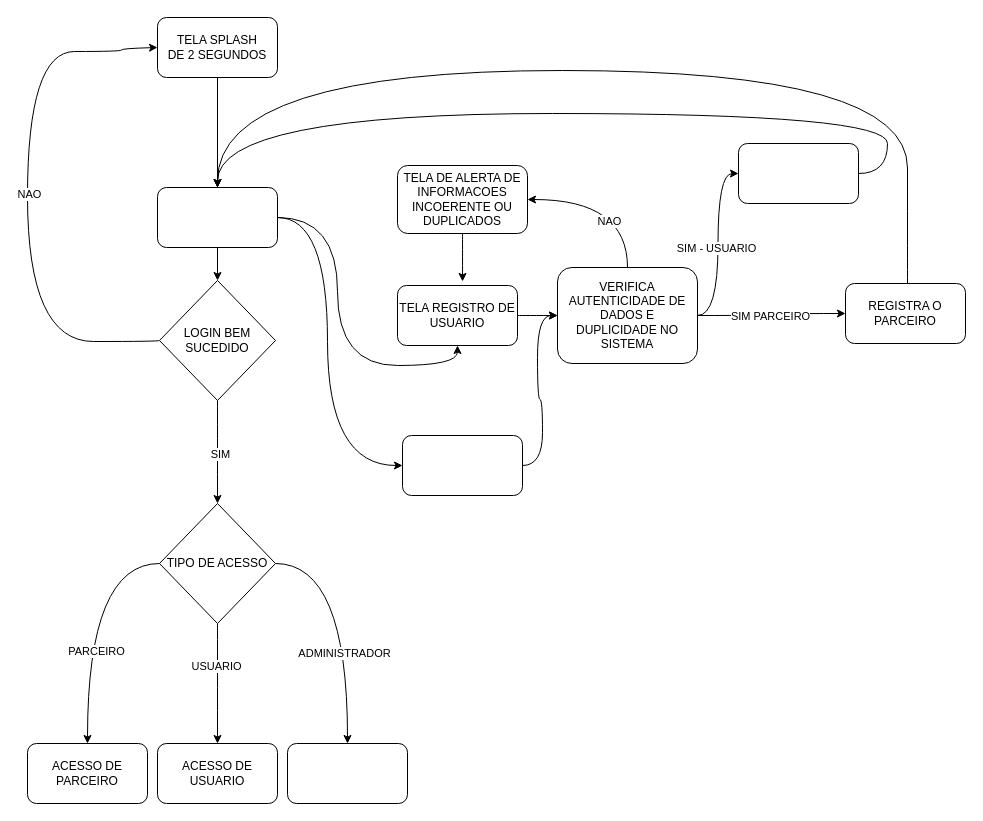
The diagram is 983 pixels wide and 821 high, and some of its shapes have lost their labels. Each missing label, with the centre of its shape:
"ACESSO DE ADMINISTRADOR" goes at (x=347, y=773).
"REGISTRA O USUARIO" goes at (x=798, y=173).
"TELA DE LOGIN" goes at (x=217, y=217).
"TELA REGISTRO DE PARCEIRO" goes at (x=462, y=465).
